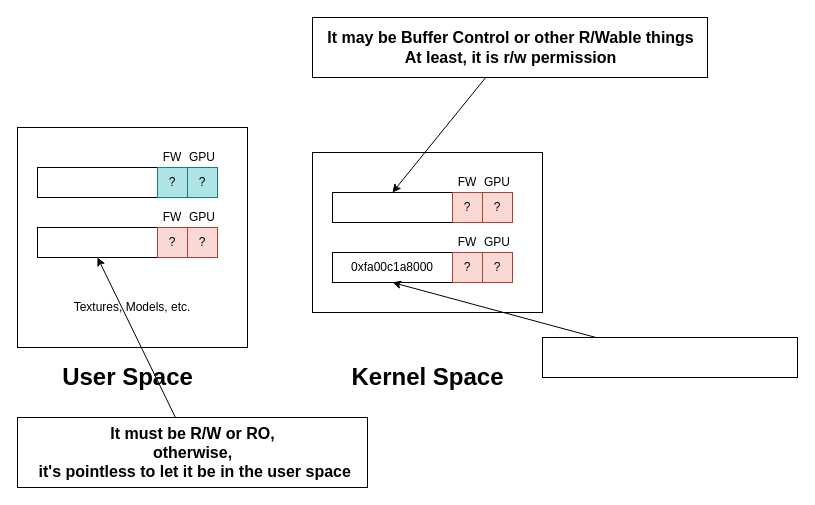
Image size: 815x505. Some labels were removed from this diagram. Each missing label, with the box of its shape:
0x1500bd8000: (36, 166, 158, 198)
0x1500bf8000: (36, 226, 158, 258)
0xfa0000d0000: (332, 192, 452, 222)
Firmware Command Buffer???: (542, 336, 798, 378)
